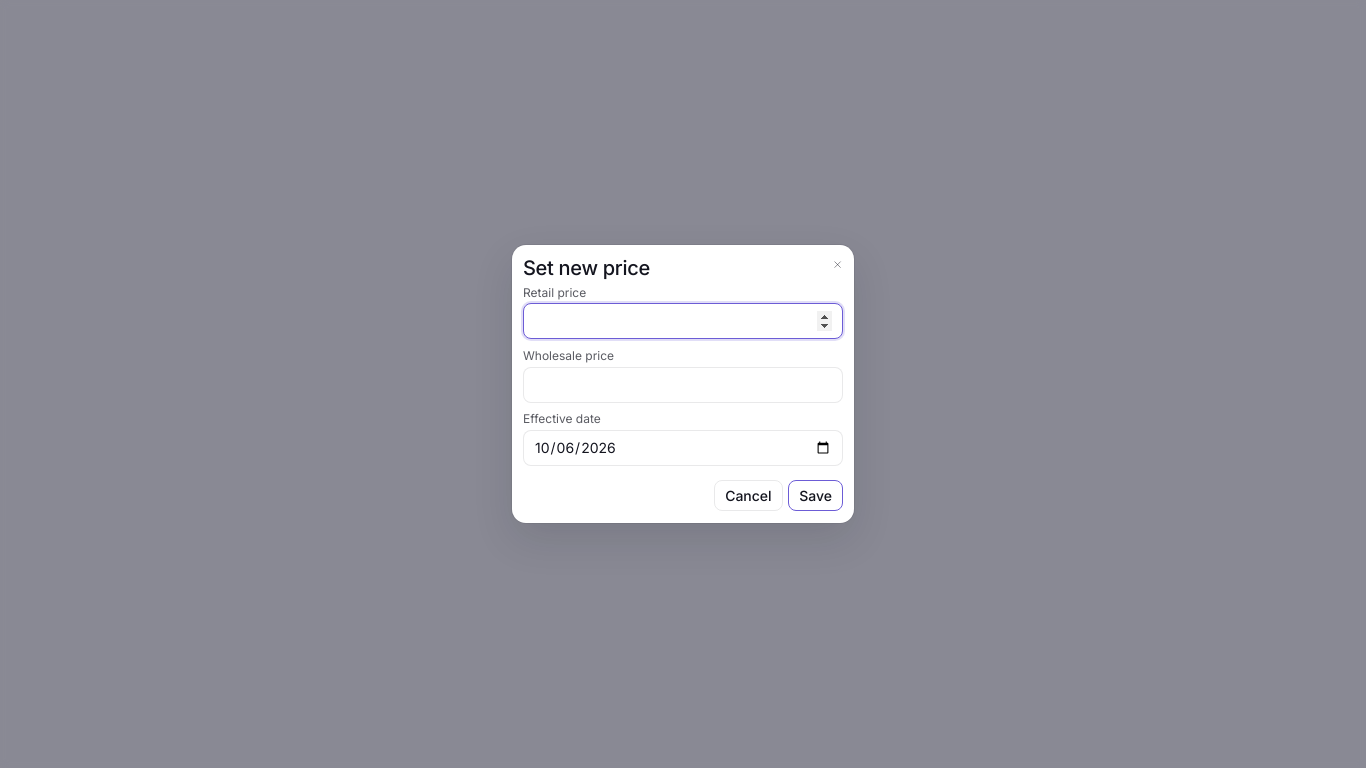
SetPriceDialog › shows an error toast and keeps the dialog open on failure
Click the button "Save" at point(816, 496), box [788,480,843,511]
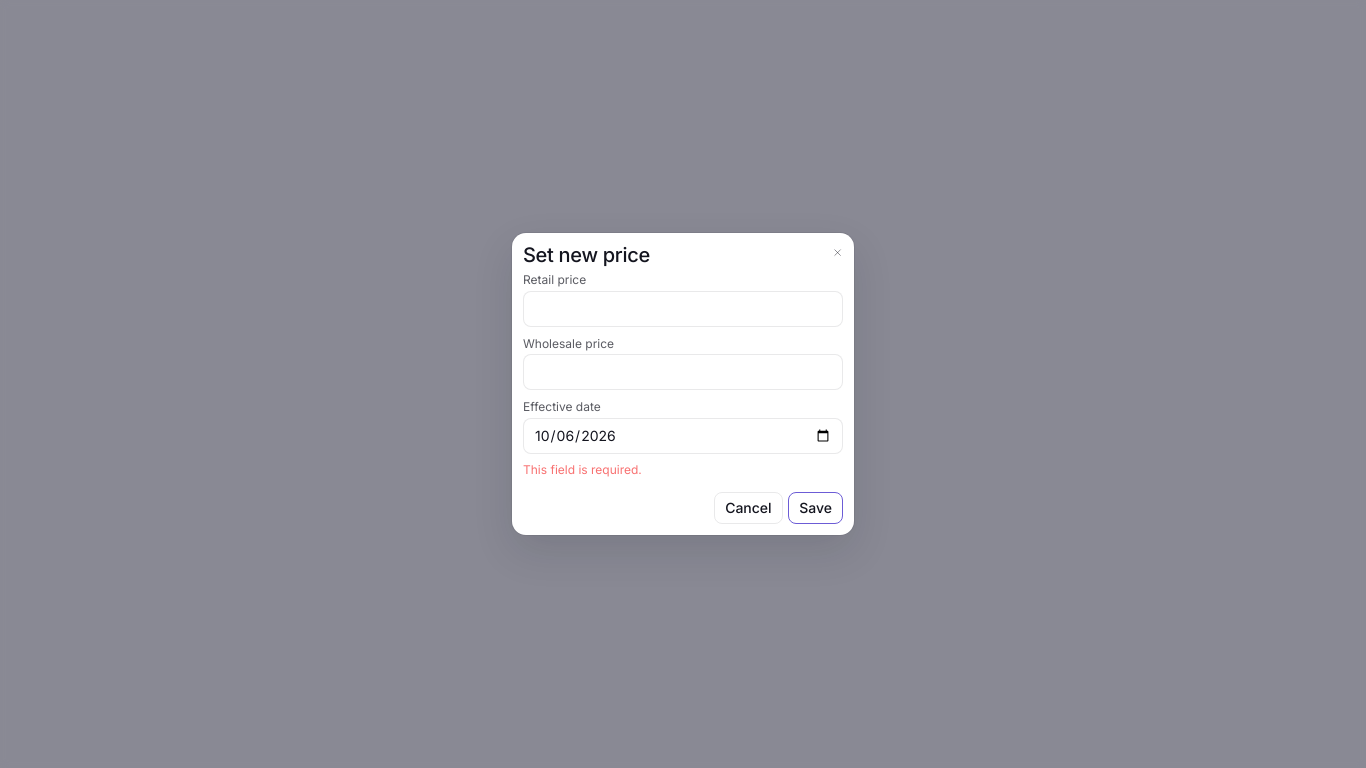
Result: the text "This field is required." is shown at [523,462,642,477]
